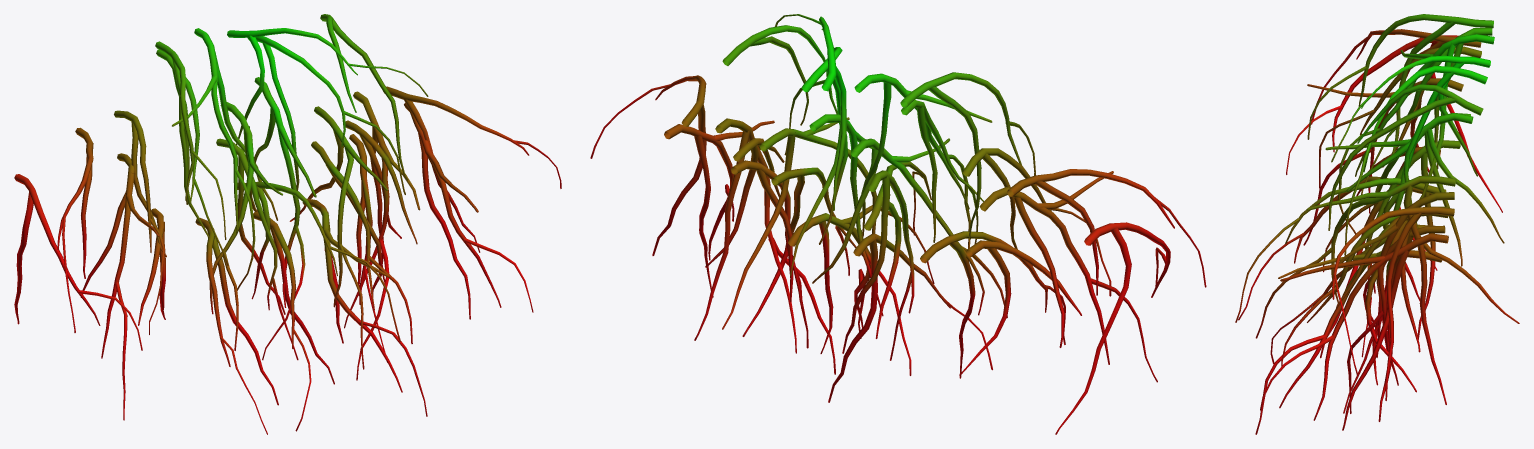
Rendered from Var14_LOD1.fbx.
3 renders of one model, left to right at view 1: azimuth 30°, elevation 25°; view 2: azimuth 150°, elevation 25°; view 3: azimuth 270°, elevation 25°, orthographic. The views are drawn at different scales.
Visible parts, largest first — view 1: _zhc8_Var14_LOD1; view 2: _zhc8_Var14_LOD1; view 3: _zhc8_Var14_LOD1.
Boxes of the visible parts, bbox=[...] form: _zhc8_Var14_LOD1: bbox=[14, 14, 561, 434]; _zhc8_Var14_LOD1: bbox=[590, 14, 1206, 434]; _zhc8_Var14_LOD1: bbox=[1235, 14, 1519, 434].
Bounding box in the file's own units: 105 × 67.98 × 49.54.
